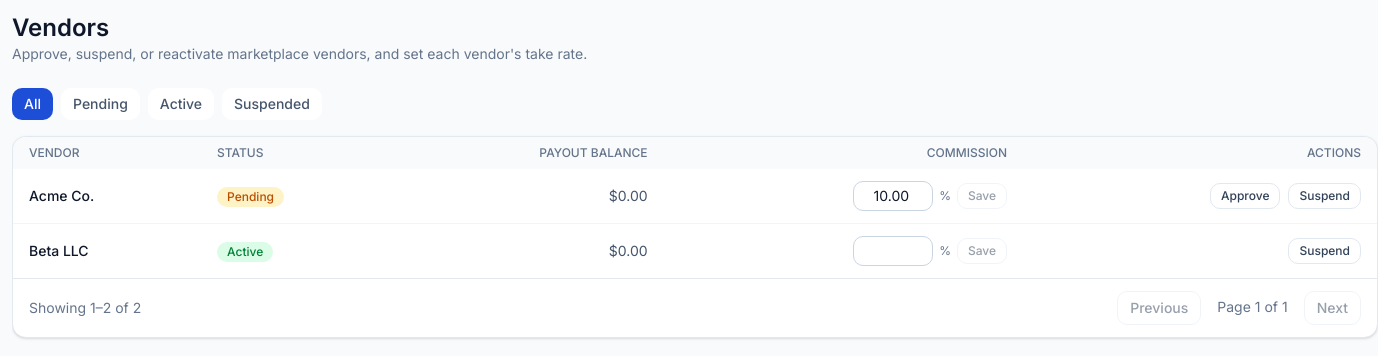
Test: VendorsPage › saves a new commission rate and reflects the server-returned value
Expected: the text "Acme Co." is shown, [13,169,201,224]
Expected: the button "Save" in the row of "Acme Co." is disabled, [957,183,1007,209]
Replace the text in the number field named "Commission rate for vendor v1" with "15" at (893, 196), box [853,181,933,211]
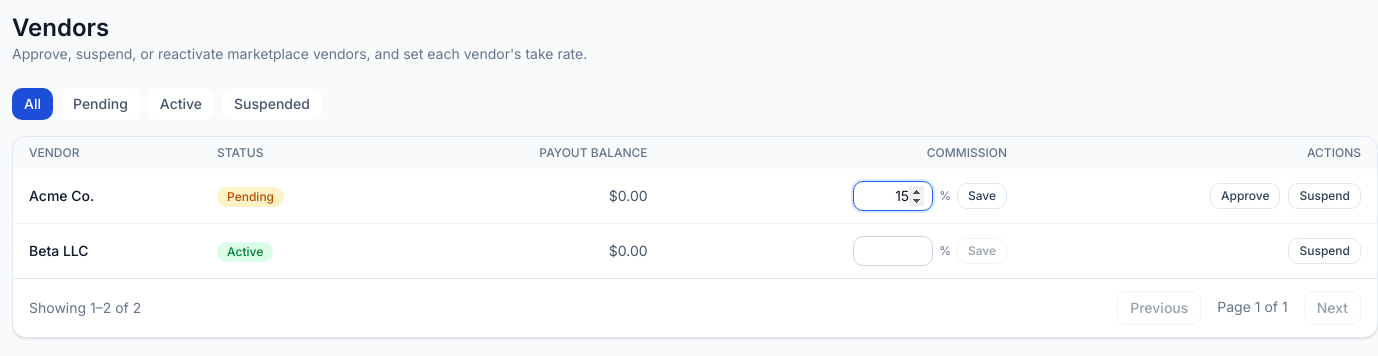
Click the button "Save" in the row of "Acme Co." at (982, 196), box [957,183,1007,209]
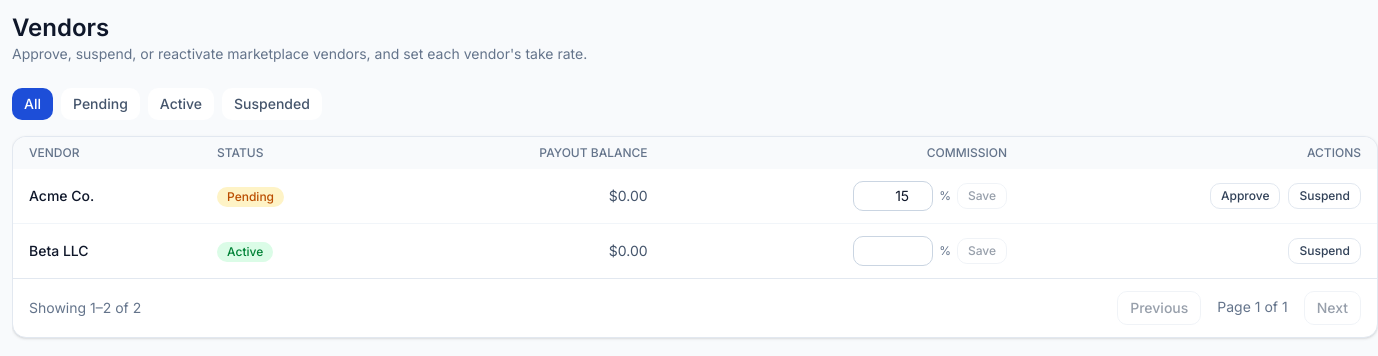
Expected: the button "Save" in the row of "Acme Co." is disabled, [957,183,1007,209]
